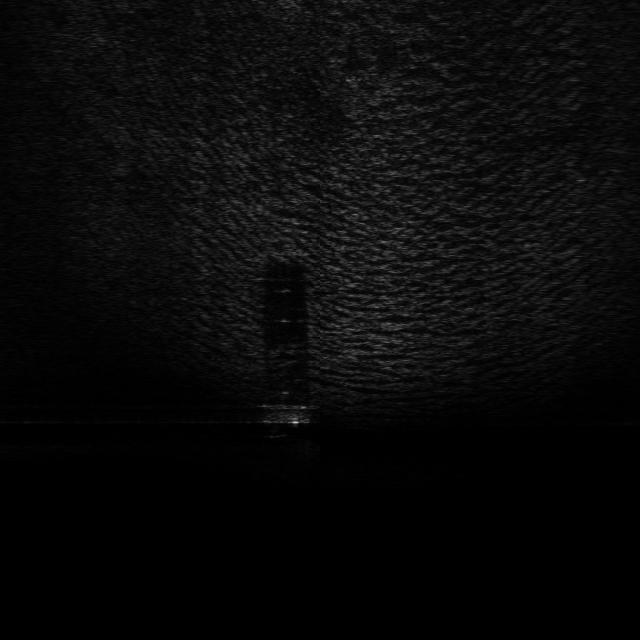cube: (258, 402, 314, 426)
